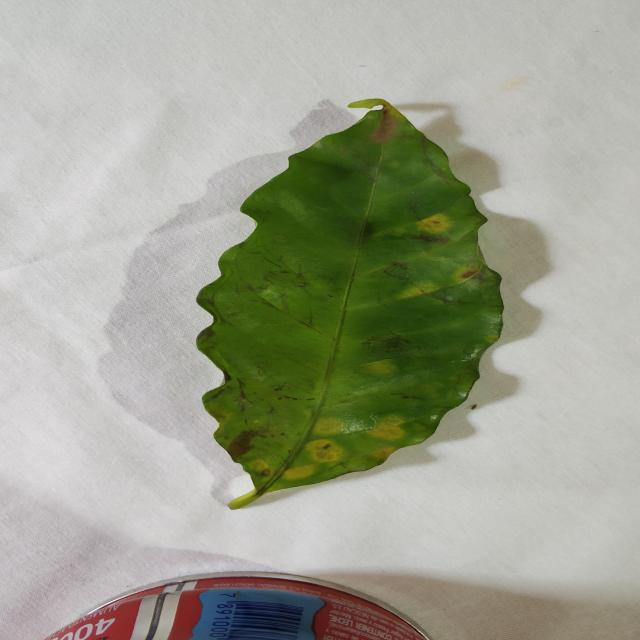Enfermedad-Roya: (194, 100, 505, 506)
